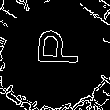P_W: (29, 35, 81, 75)
